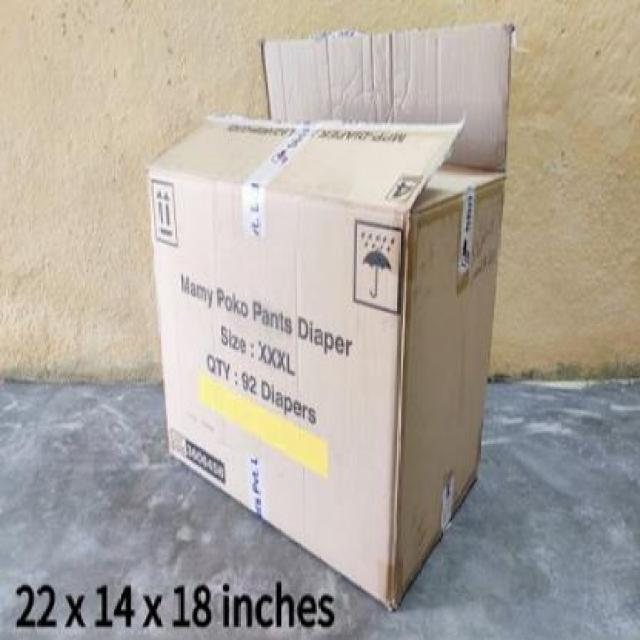box: (140, 22, 538, 608)
